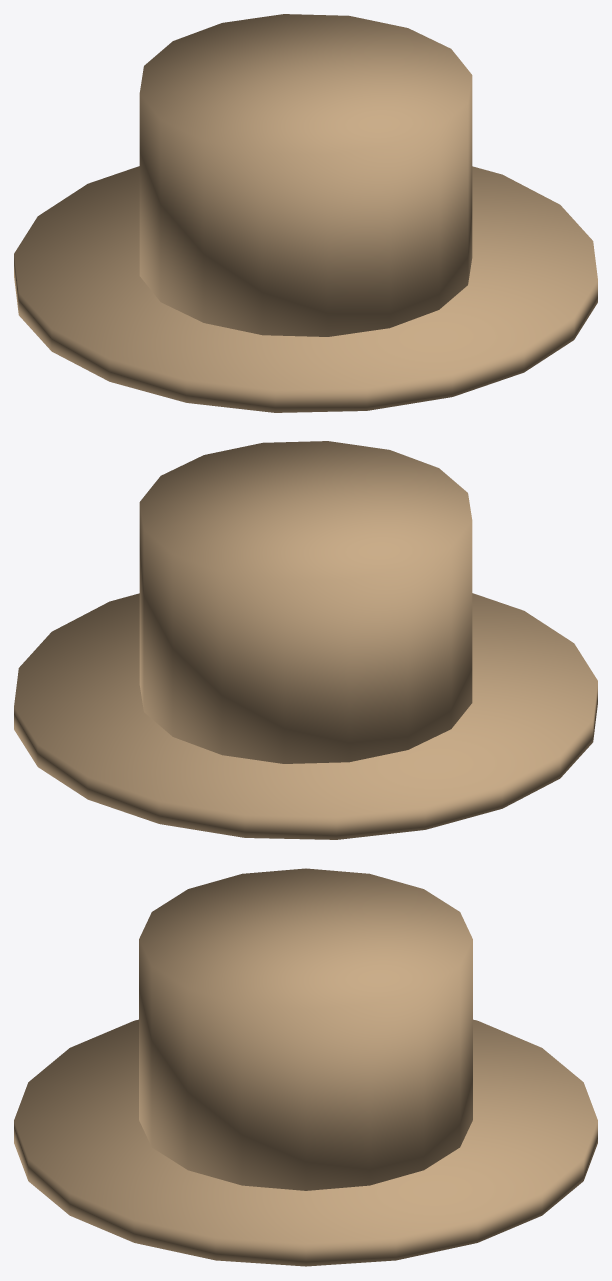
Rendered from equip_hat_0.glb.
3 renders of one model, top to bottom at view 1: azimuth 30°, elevation 25°; view 2: azimuth 150°, elevation 25°; view 3: azimuth 270°, elevation 25°, orthographic.
Parts seen in each view (by area): view 1: cone; view 2: cone; view 3: cone.
Part boxes in pixels (left/top/right/bottom): cone: left=14, top=14, right=597, bottom=412; cone: left=14, top=441, right=597, bottom=839; cone: left=14, top=868, right=597, bottom=1266.
Size of the model in its own units: 0.7 by 0.27 by 0.7.
